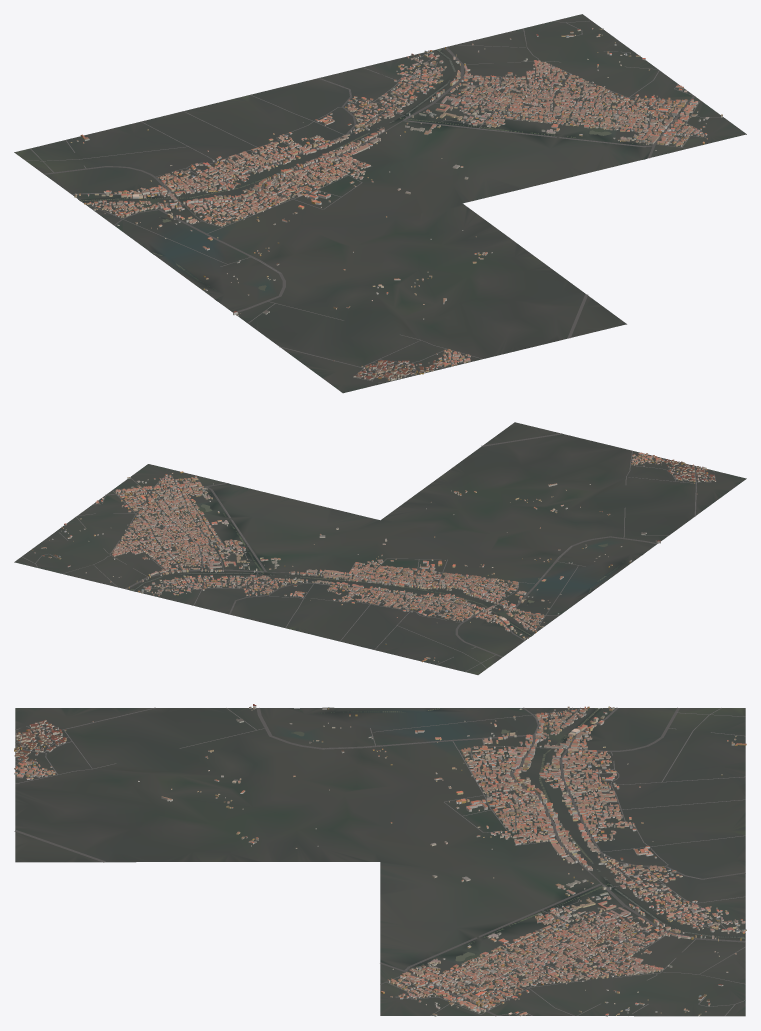
3 views of the same model, one above another, from view 1: azimuth 30°, elevation 25°; view 2: azimuth 150°, elevation 25°; view 3: azimuth 270°, elevation 25° (orthographic). The views are drawn at different scales.
Parts seen in each view (by area): view 1: ground, buildings, roads, water; view 2: ground, buildings, roads, water; view 3: ground, buildings, roads, water.
Part boxes in pixels (x1,y1,x2,y2): ground: (14, 14, 746, 393); buildings: (70, 28, 722, 380); roads: (25, 20, 723, 383); water: (79, 48, 643, 298); ground: (14, 422, 746, 674); buildings: (31, 452, 715, 662); roads: (21, 433, 716, 671); water: (131, 492, 638, 636); ground: (15, 707, 745, 1016); buildings: (14, 704, 746, 1016); roads: (14, 707, 745, 1016); water: (291, 708, 745, 968).
Bounding box in the file's own units: 2811 × 23.36 × 2814.
